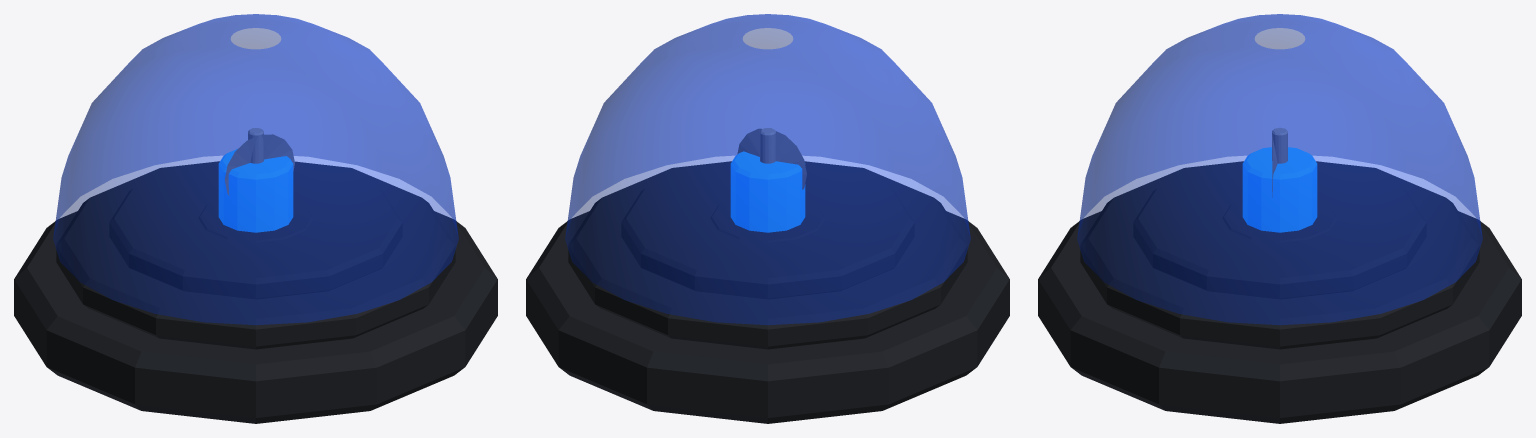
File: gyrophare_bleu.glb
3 views of the same model, side by side, from view 1: azimuth 30°, elevation 25°; view 2: azimuth 150°, elevation 25°; view 3: azimuth 270°, elevation 25° (orthographic).
Visible parts, largest first — view 1: Dome_Bleu, Base_Noire, Base_Anneau_Superieur, Couronne_Interne, Light_Blue, Support_Lampe, Reflecteur; view 2: Dome_Bleu, Base_Noire, Base_Anneau_Superieur, Couronne_Interne, Light_Blue, Support_Lampe, Reflecteur, Axe_Reflecteur; view 3: Dome_Bleu, Base_Noire, Base_Anneau_Superieur, Couronne_Interne, Light_Blue, Support_Lampe, Axe_Reflecteur.
Part boxes in pixels (<box>): Dome_Bleu: <box>53,14,458,324</box>; Base_Noire: <box>14,211,497,423</box>; Base_Anneau_Superieur: <box>56,161,455,349</box>; Couronne_Interne: <box>109,162,402,299</box>; Light_Blue: <box>218,149,293,232</box>; Support_Lampe: <box>198,200,313,242</box>; Reflecteur: <box>225,134,294,195</box>; Dome_Bleu: <box>565,14,970,324</box>; Base_Noire: <box>526,211,1009,423</box>; Base_Anneau_Superieur: <box>568,161,967,349</box>; Couronne_Interne: <box>621,162,914,299</box>; Light_Blue: <box>730,151,805,232</box>; Support_Lampe: <box>710,200,825,242</box>; Reflecteur: <box>737,128,806,189</box>; Axe_Reflecteur: <box>760,128,775,163</box>; Dome_Bleu: <box>1077,14,1482,324</box>; Base_Noire: <box>1038,211,1521,423</box>; Base_Anneau_Superieur: <box>1080,161,1479,349</box>; Couronne_Interne: <box>1133,162,1426,299</box>; Light_Blue: <box>1242,147,1317,232</box>; Support_Lampe: <box>1222,200,1337,242</box>; Axe_Reflecteur: <box>1272,128,1287,163</box>.
Bounding box in the file's own units: 3.1 × 2.04 × 3.1.
